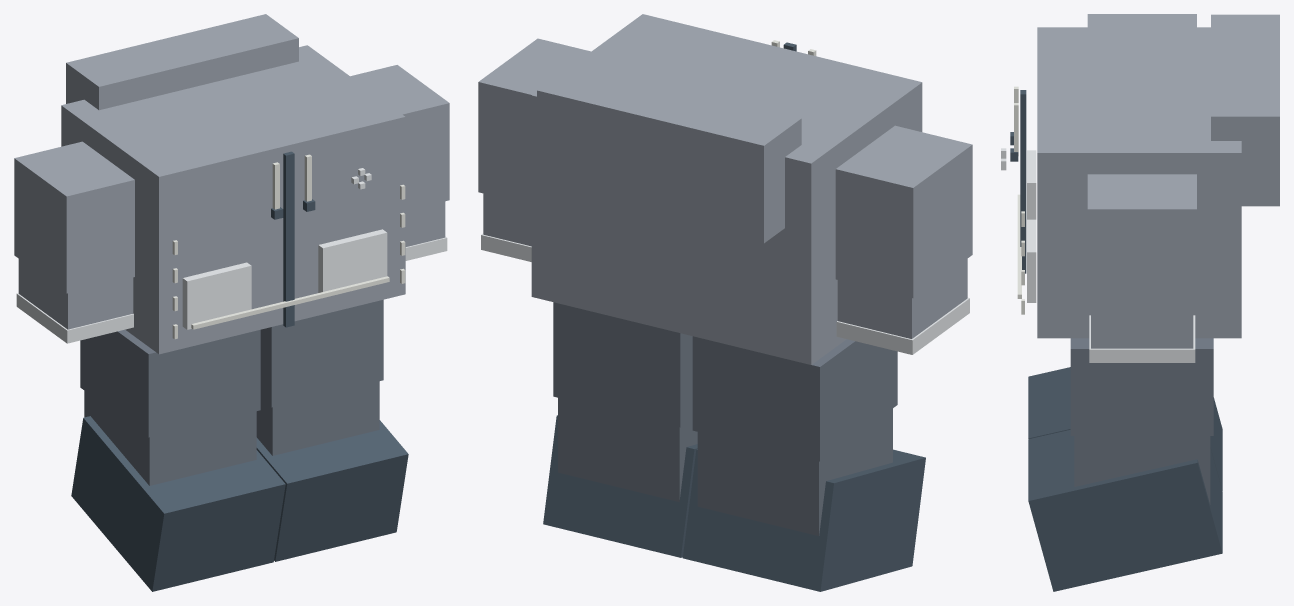
Rendered from hoodie-slate.glb.
The picture shows the model from 3 angles, left to right: view 1: azimuth 30°, elevation 25°; view 2: azimuth 150°, elevation 25°; view 3: azimuth 270°, elevation 25°; orthographic projection. The views are drawn at different scales.
Visible parts, largest first — view 1: jacket, shoe-Right, upper-sleeve-Right, trouser-Right, shoe-Left, hood-back, trouser-Left, lower-trouser-Right, upper-sleeve-Left, lower-trouser-Left, lower-sleeve-Right, pocket--1 (+6 smaller); view 2: jacket, hood-back, upper-sleeve-Right, trouser-Right, shoe-Right, trouser-Left, lower-trouser-Right, lower-trouser-Left, upper-sleeve-Left, shoe-Left, lower-sleeve-Right, cuff-Right (+2 smaller); view 3: jacket, shoe-Left, upper-sleeve-Left, trouser-Left, hood-back, lower-trouser-Left, lower-sleeve-Left, shoe-Right, cuff-Left, upper-sleeve-Right, zip, pocket-1 (+2 smaller).
Boxes of the visible parts, box(x1,y1,x2,y2) form: jacket: box(61, 45, 405, 354); shoe-Right: box(71, 416, 285, 591); upper-sleeve-Right: box(14, 141, 134, 293); trouser-Right: box(80, 329, 260, 437); shoe-Left: box(256, 420, 408, 561); hood-back: box(66, 14, 298, 110); trouser-Left: box(260, 299, 383, 407); lower-trouser-Right: box(84, 391, 256, 485); upper-sleeve-Left: box(350, 65, 449, 210); lower-trouser-Left: box(256, 381, 379, 455); lower-sleeve-Right: box(18, 259, 133, 329); pocket--1: box(182, 262, 251, 329); jacket: box(531, 14, 922, 364); hood-back: box(537, 63, 801, 243); upper-sleeve-Right: box(835, 125, 972, 298); trouser-Right: box(692, 336, 897, 461); shoe-Right: box(682, 449, 925, 591); trouser-Left: box(553, 302, 692, 427); lower-trouser-Right: box(697, 408, 892, 535); lower-trouser-Left: box(558, 398, 697, 501); upper-sleeve-Left: box(478, 38, 590, 204); shoe-Left: box(543, 415, 697, 557); lower-sleeve-Right: box(837, 259, 967, 338); cuff-Right: box(836, 297, 969, 354); jacket: box(1037, 27, 1241, 338); shoe-Left: box(1028, 429, 1222, 591); upper-sleeve-Left: box(1087, 174, 1196, 310); trouser-Left: box(1070, 338, 1213, 435); hood-back: box(1211, 14, 1279, 206); lower-trouser-Left: box(1074, 436, 1210, 504); lower-sleeve-Left: box(1091, 310, 1193, 348); shoe-Right: box(1028, 367, 1222, 490); cuff-Left: box(1089, 315, 1195, 362); upper-sleeve-Right: box(1087, 14, 1196, 27); zip: box(1020, 90, 1026, 273); pocket-1: box(1027, 219, 1036, 302).
Bounding box in the file's own units: 1.07 × 1.19 × 0.648.
